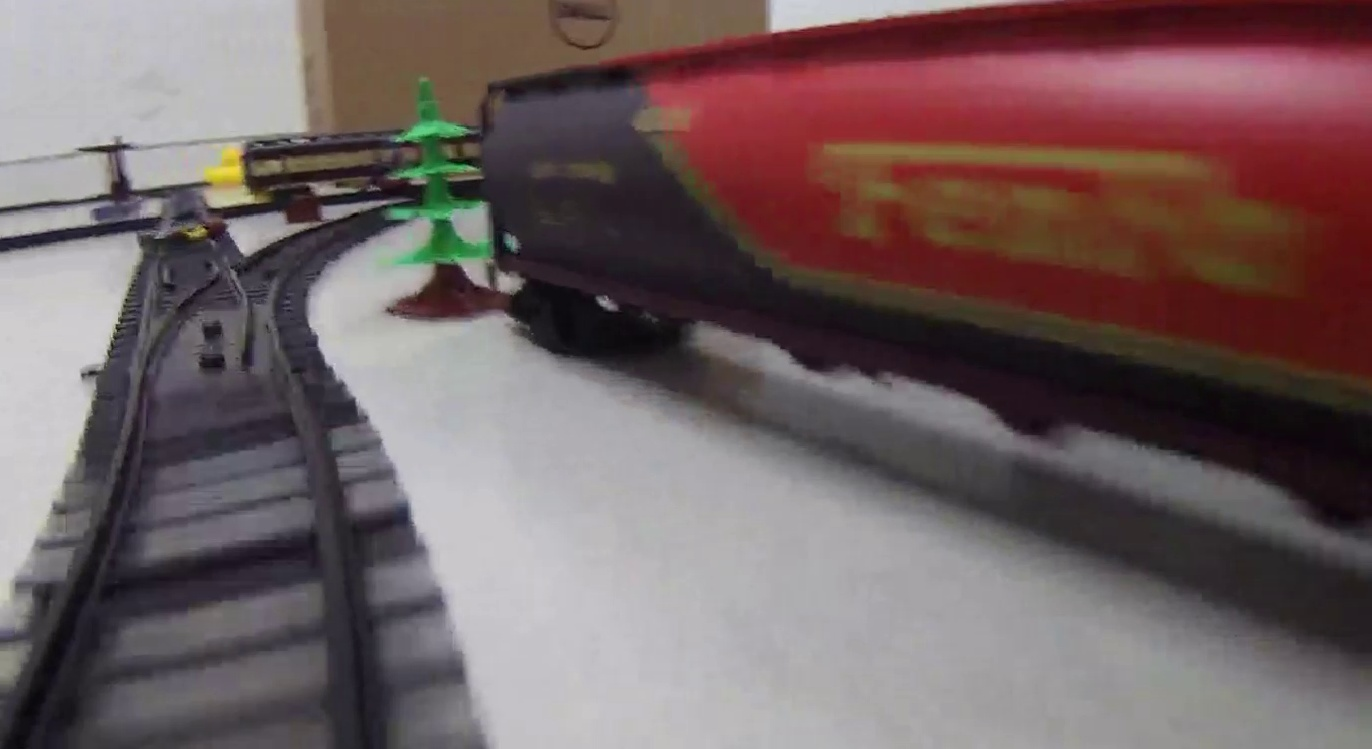tree: (383, 75, 487, 319)
